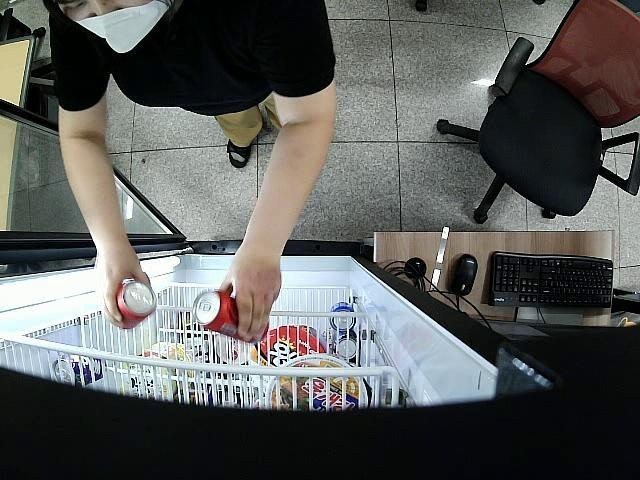11_cocaColaZero: (196, 291, 270, 344), (116, 276, 154, 328)
